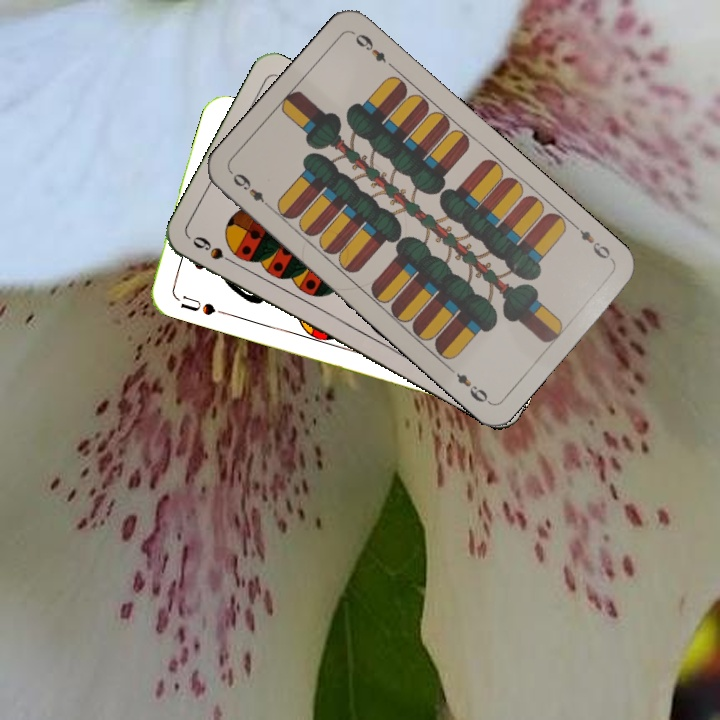E9: (569, 220, 616, 264), (228, 169, 274, 212)
S9: (188, 232, 242, 269)
SU: (171, 291, 229, 318)
